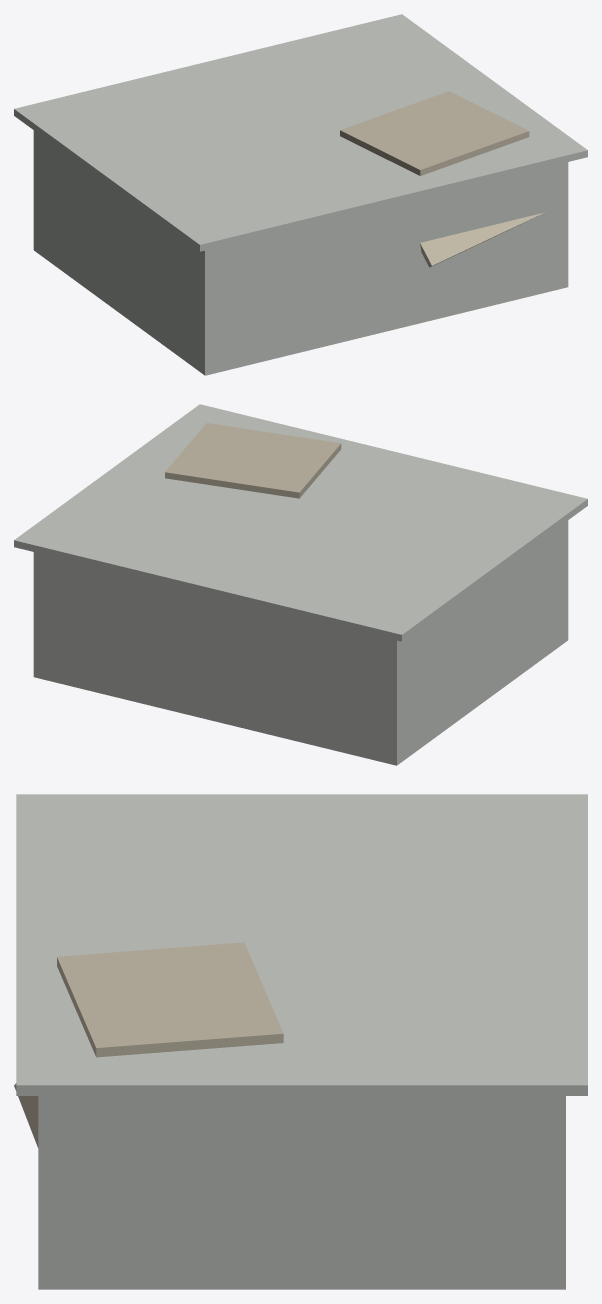
File: ChauRua_KhanLau.glb
3 renders of one model, top to bottom at view 1: azimuth 30°, elevation 25°; view 2: azimuth 150°, elevation 25°; view 3: azimuth 270°, elevation 25°, orthographic. The views are drawn at different scales.
Visible parts, largest first — view 1: ChauRua_Long, KhanLau; view 2: ChauRua_Long, KhanLau; view 3: ChauRua_Long, KhanLau.
Part boxes in pixels (x1,y1,x2,y2): ChauRua_Long: [14, 14, 587, 375]; KhanLau: [340, 91, 544, 267]; ChauRua_Long: [14, 404, 587, 765]; KhanLau: [165, 423, 341, 498]; ChauRua_Long: [16, 794, 587, 1289]; KhanLau: [14, 942, 283, 1147].
Size of the model in its own units: 0.47 by 0.1705 by 0.3917.
